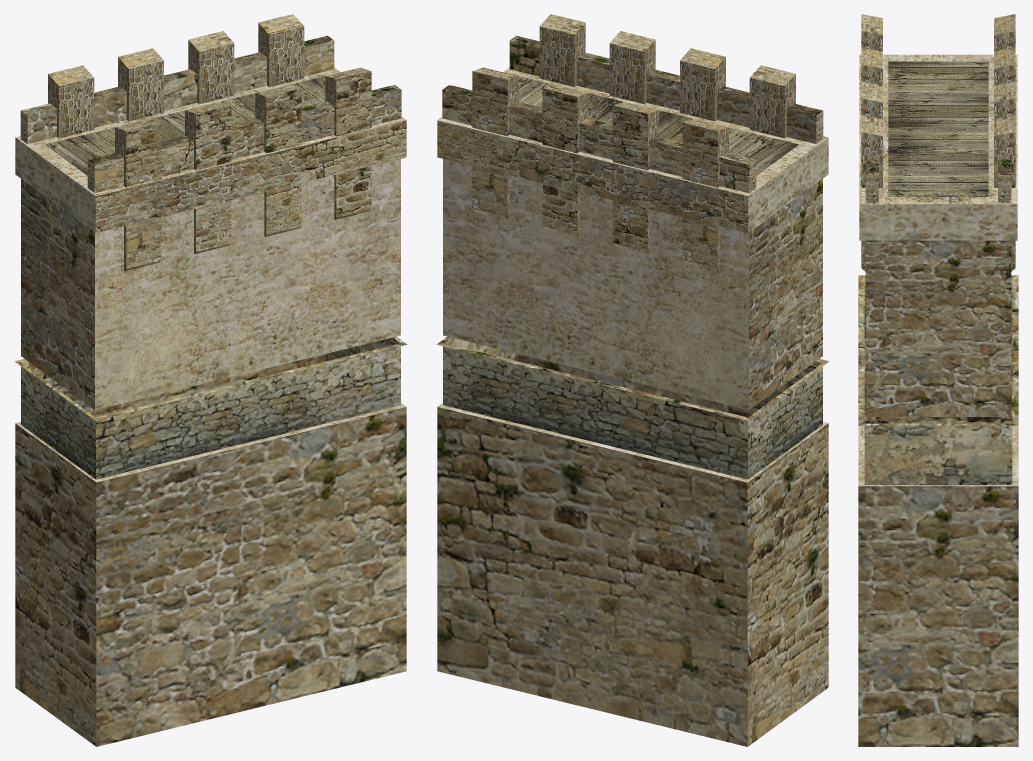
Rendered from athen_wall_short.dae.
The picture shows the model from 3 angles, left to right: view 1: azimuth 30°, elevation 25°; view 2: azimuth 150°, elevation 25°; view 3: azimuth 270°, elevation 25°; orthographic projection.
Parts seen in each view (by area): view 1: wall_short; view 2: wall_short; view 3: wall_short.
Boxes of the visible parts, bbox=[...] form: wall_short: bbox=[14, 14, 407, 746]; wall_short: bbox=[436, 14, 829, 746]; wall_short: bbox=[858, 14, 1018, 746].
Size of the model in its own units: 12.42 by 5.61 by 23.08.
